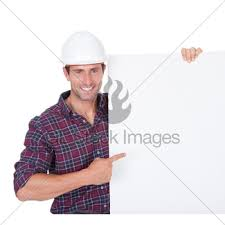Person_wearing_helmet: (61, 28, 108, 78)
